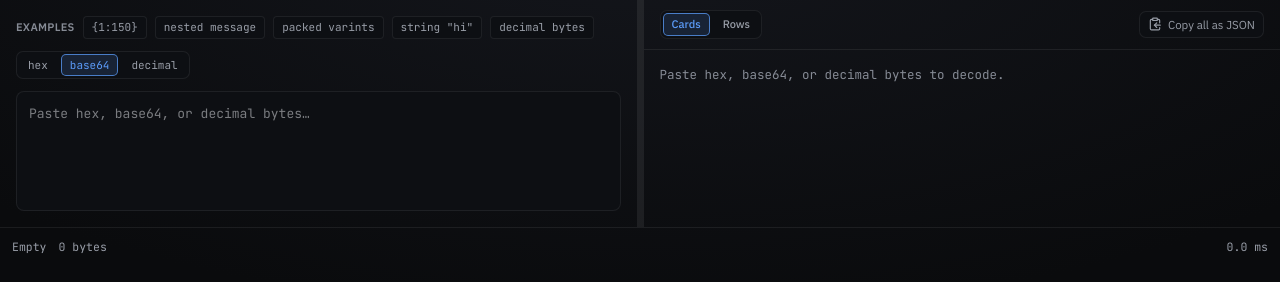
it: ProtobufDecoder › renders a group byte ('1c') as an error and does NOT throw (PRO-02)
Type "1c" into the text box with placeholder "Paste hex, base64, or decimal bytes…". click: coordinates (318, 151)
box: [16,91,620,211]
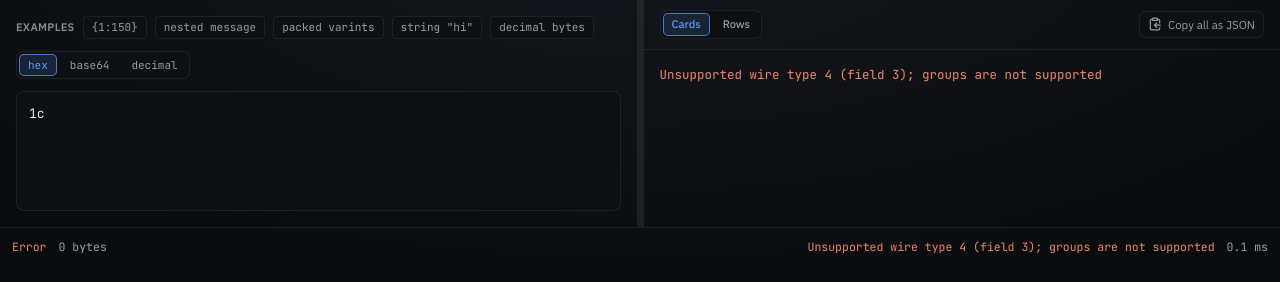
Expected: the text named "parse state" reads "Error", [12,239,46,254]
